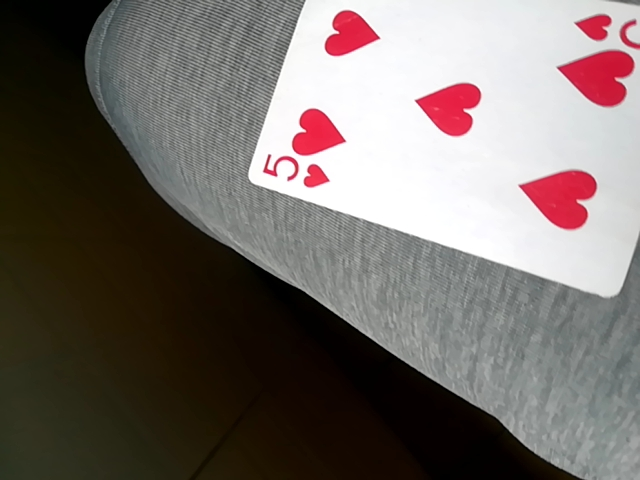hx 5: (246, 0, 640, 297)
